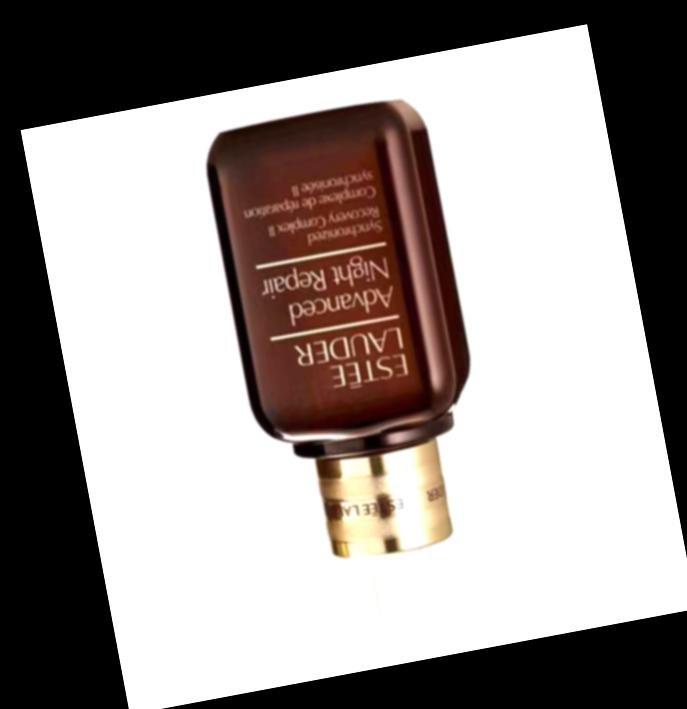cosmetic: (199, 102, 509, 665)
